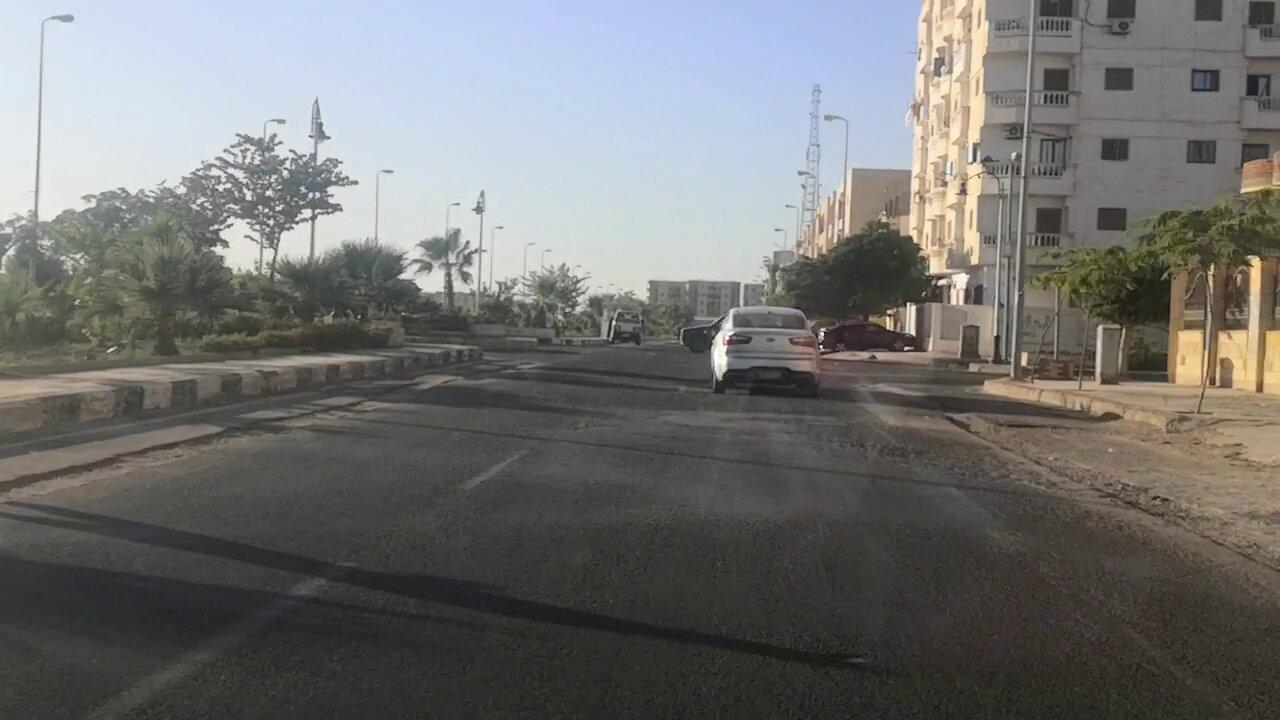Bump: (410, 377, 966, 437)
Pothole: (0, 401, 376, 507), (451, 361, 538, 380)
